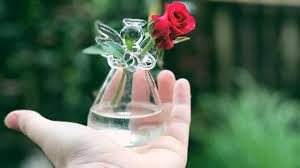rose: (149, 3, 195, 47)
